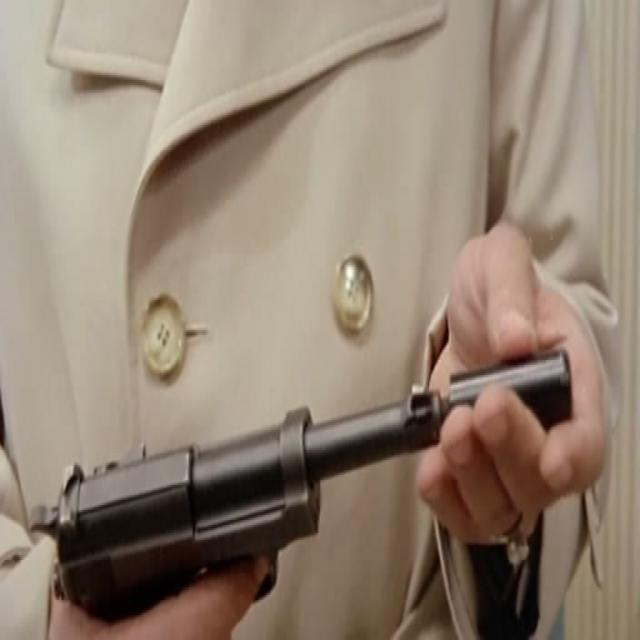gun-knife-thesis - v11 Yolov5 augmented: (20, 340, 571, 638)
